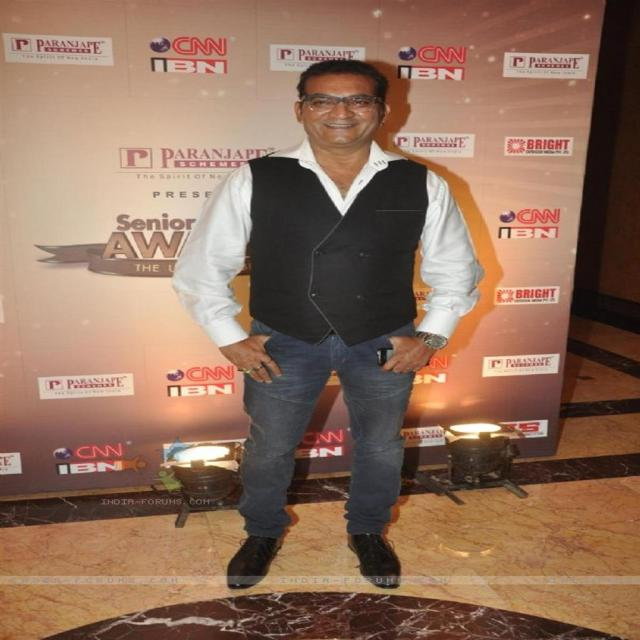Face: (302, 71, 396, 153)
